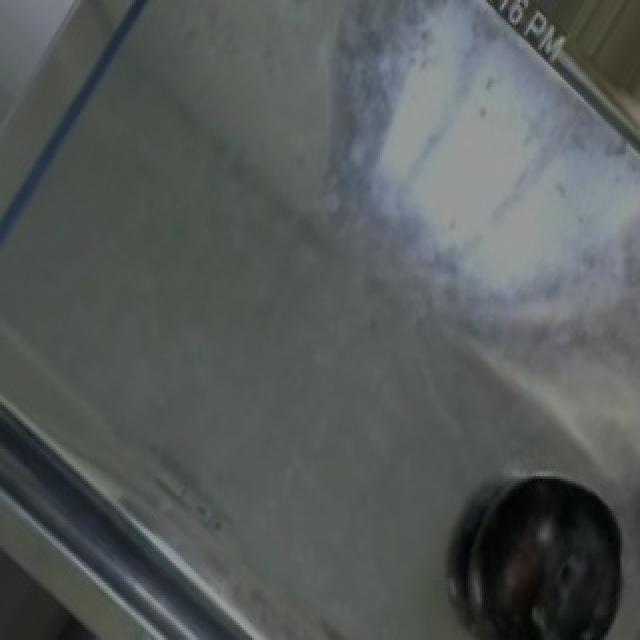Fruit: (536, 0, 640, 166)
